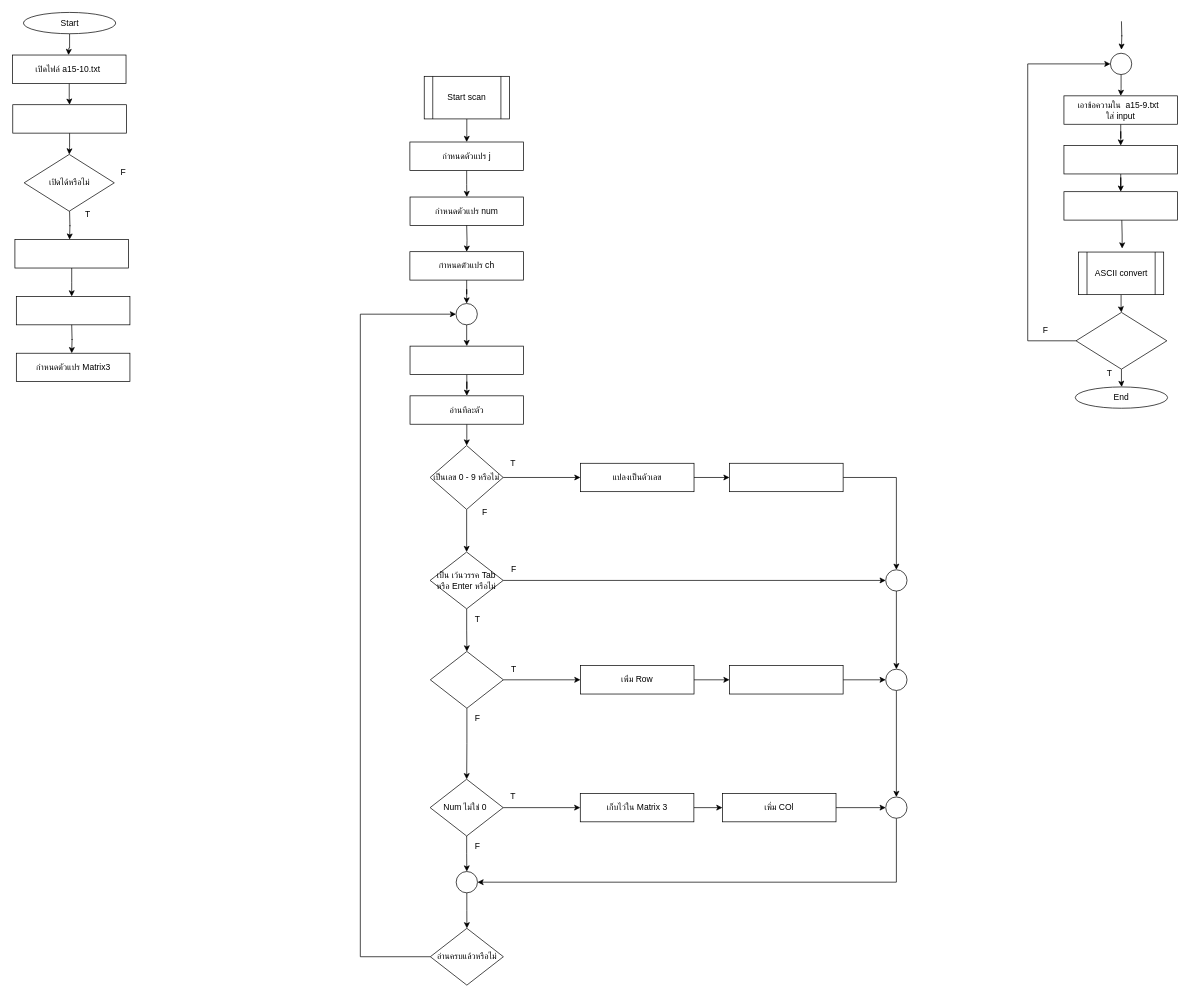
The diagram is 1190 pixels wide and 998 high, and some of its shapes have lost their labels. Each missing label, with the centre of its shape:
"Rst COl" belongs at (786,679).
"กำหนดตัวแปร Matrix1" belongs at (71,253).
"กำหนดตัวแปร Matrix2" belongs at (73,310).
"อ่านไฟล์จาก fp" belongs at (466,360).
"เก็บที่แปลงไว้ใน arr ASCII" belongs at (1120,205).
"เก็บไว้ใน Num" belongs at (786,477).
"เปิดไฟล์ b15-10.txt" belongs at (69,118).
"เป็น เว้นวรรค หรือไม่" belongs at (466,679).
"แปลงข้อมูลเป็น ASCII" belongs at (1120,159).
"แปลงครบทุกตัวแล้วหรือไม่" belongs at (1121,340).
